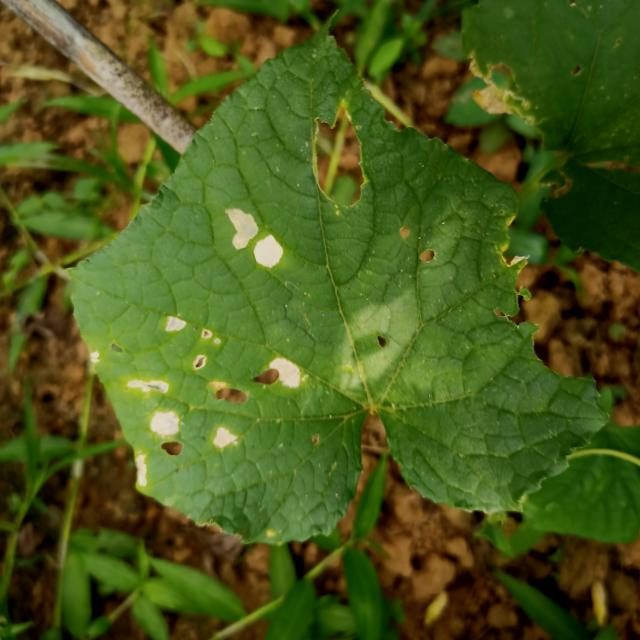disease_cucumber: (128, 314, 301, 490), (227, 209, 282, 267)
